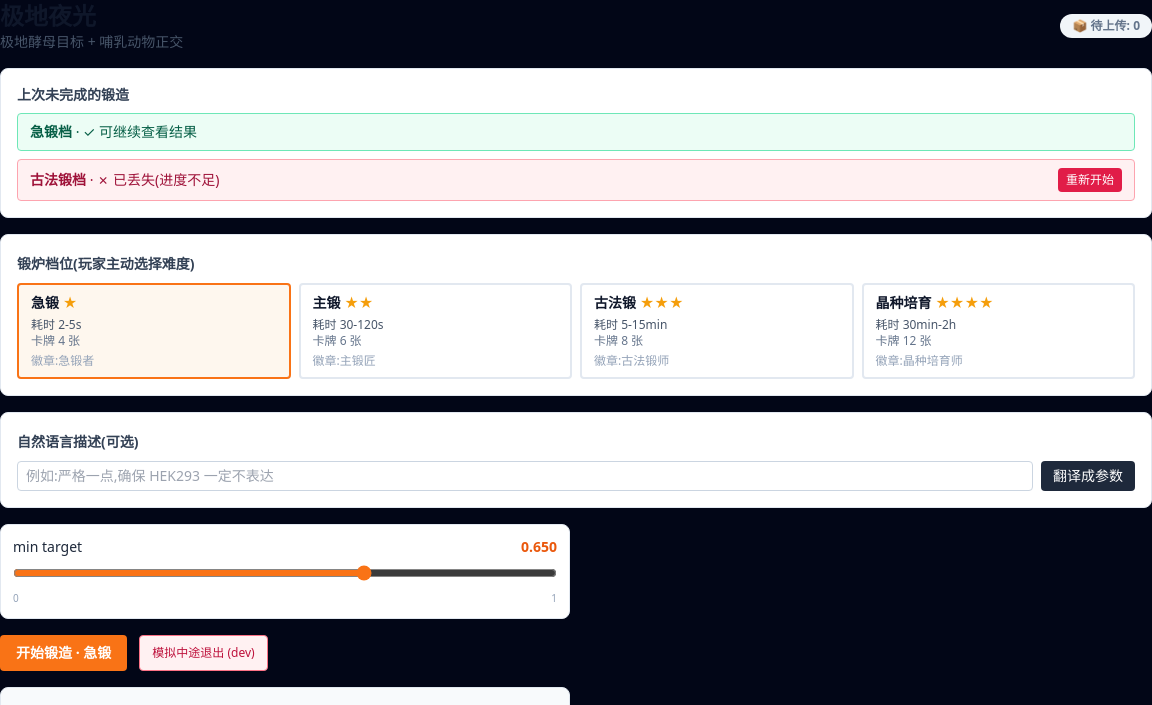
Test: ForgePage · auto-save to Gallery (Phase 3 Task 6 P0-B1) › shows "✅ 作品已保存到 Gallery" success toast after forge
This screenshot has width=1152, height=705.
Expected: the element with test id "ritual-selector" is shown, [0,234,1151,396]
What coordinates should you click on to do the following:
click the button with test id "forge-run"
I would click on:
 (64, 653)
Its box is [0,635,127,671].
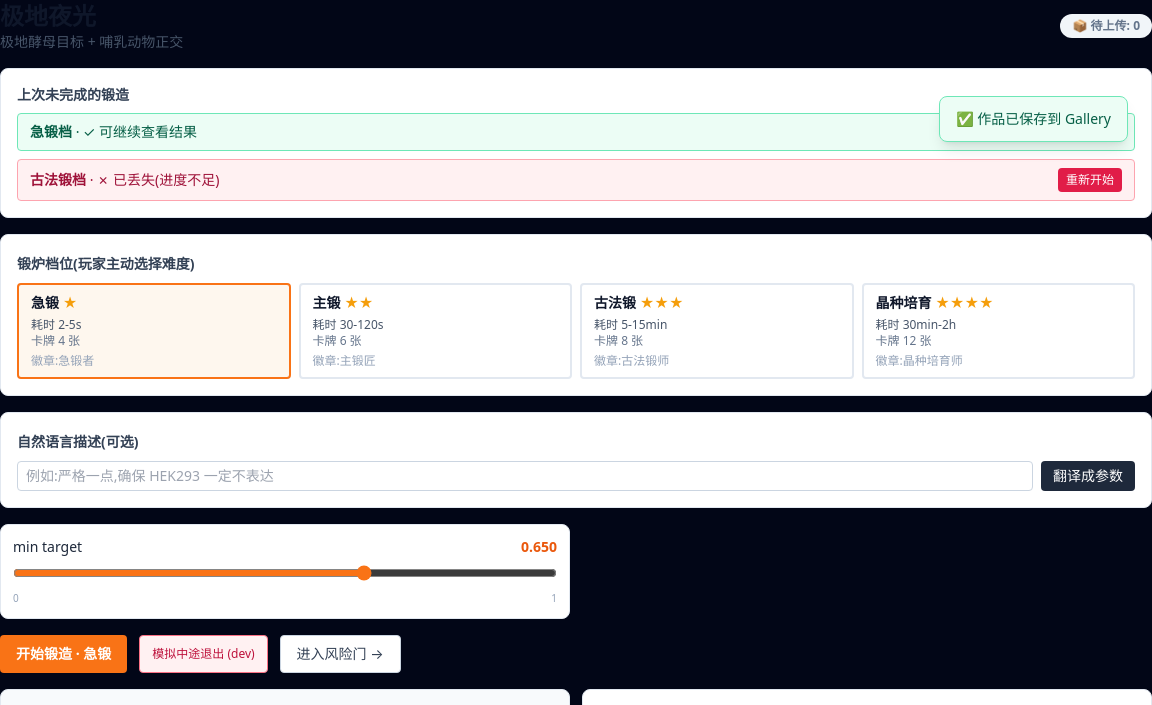
Result: the message "✅ 作品已保存到 Gallery" is shown at [939,96,1128,142]
Result: the message with test id "upload-toast" shows "作品已保存到 Gallery" at [956,109,1111,128]
